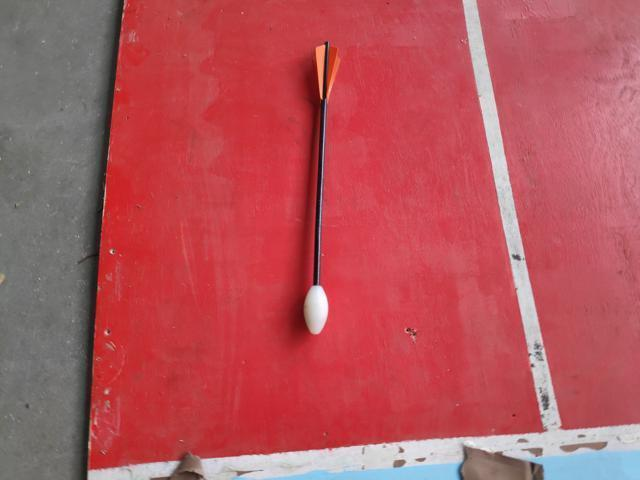Head: (300, 282, 332, 337)
Tail: (311, 38, 344, 103)
